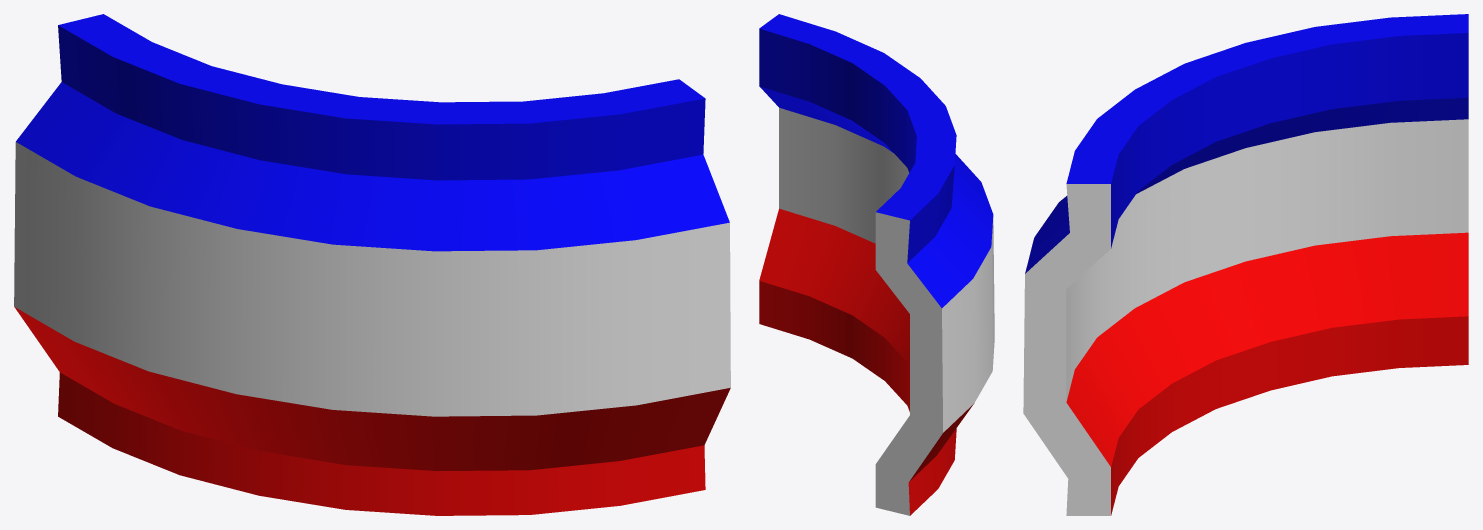
The model's file is Scifi2_WallA_CornerIn.fbx.
3 renders of one model, left to right at view 1: azimuth 30°, elevation 25°; view 2: azimuth 150°, elevation 25°; view 3: azimuth 270°, elevation 25°, orthographic. The views are drawn at different scales.
Parts seen in each view (by area): view 1: WallA_CornerIn; view 2: WallA_CornerIn; view 3: WallA_CornerIn.
Part boxes in pixels (x1,y1,x2,y2): WallA_CornerIn: (14,14,730,515); WallA_CornerIn: (759,14,994,515); WallA_CornerIn: (1023,14,1468,515).
Bounding box in the file's own units: 498 × 410 × 498.
